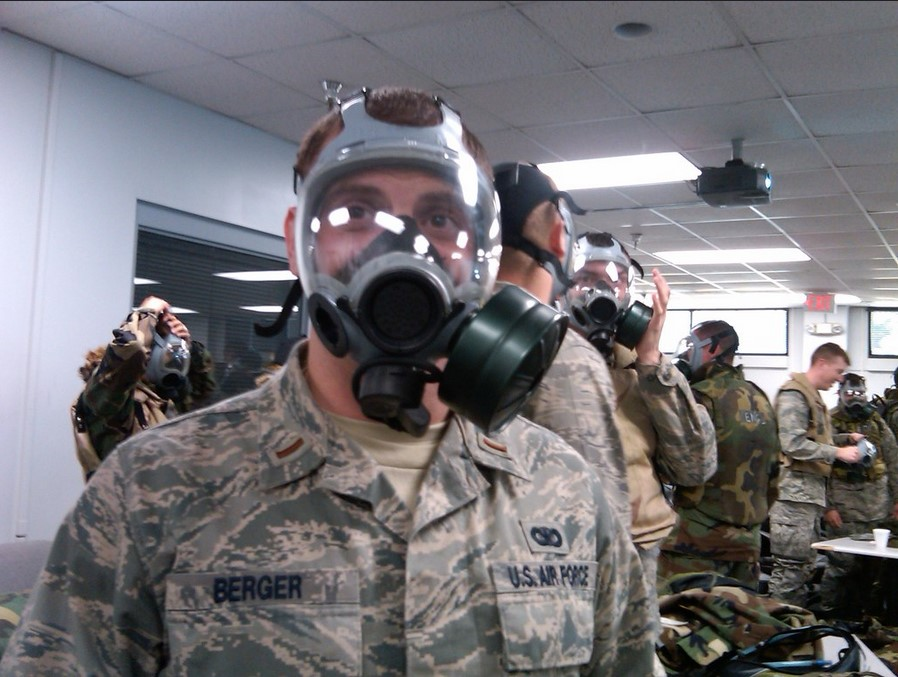face_no_mask: (815, 334, 851, 389)
